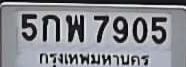0: (132, 16, 146, 42)
5: (21, 13, 36, 40), (151, 15, 166, 42)
7: (93, 14, 108, 42)
9: (112, 15, 127, 42)
A01: (41, 14, 59, 40)
A30: (65, 14, 83, 42)
BKK: (36, 49, 152, 67)
